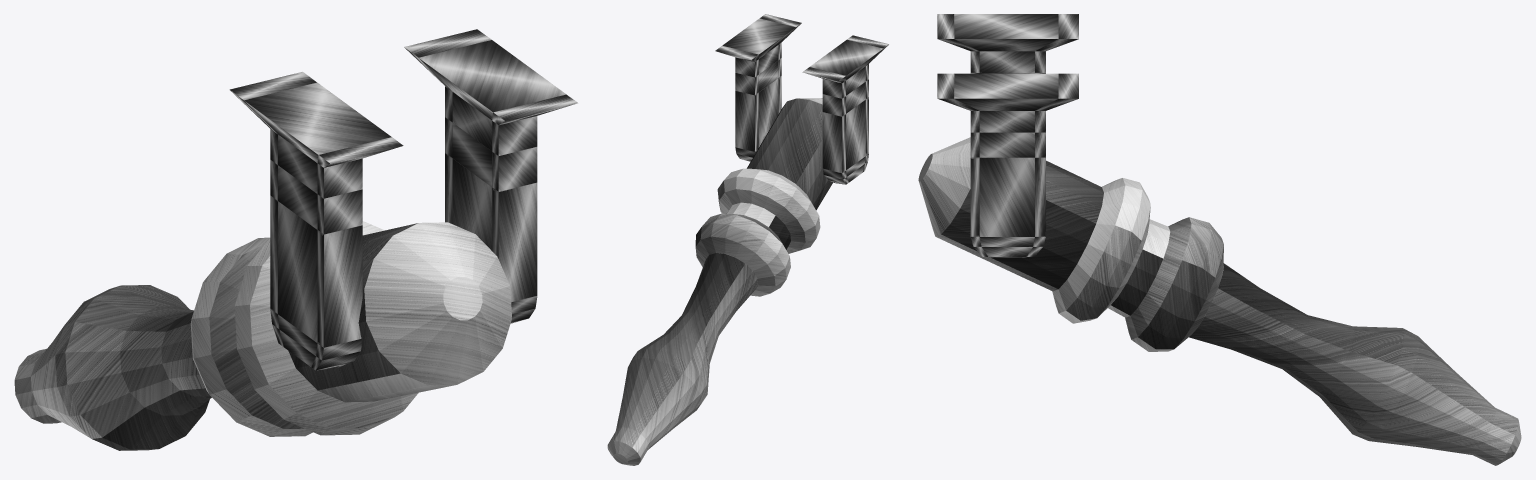
Rendered from LGun.fbx.
3 views of the same model, side by side, from view 1: azimuth 30°, elevation 25°; view 2: azimuth 150°, elevation 25°; view 3: azimuth 270°, elevation 25° (orthographic). The views are drawn at different scales.
Visible parts, largest first — view 1: Gun, R; view 2: Gun, R; view 3: Gun, R.
Part boxes in pixels (bbox=[...]): Gun: bbox=[14, 221, 511, 450]; R: bbox=[229, 29, 577, 370]; Gun: bbox=[607, 98, 832, 465]; R: bbox=[715, 14, 888, 184]; Gun: bbox=[918, 137, 1521, 465]; R: bbox=[937, 14, 1078, 257].
Size of the model in its own units: 122 by 273 by 367.
